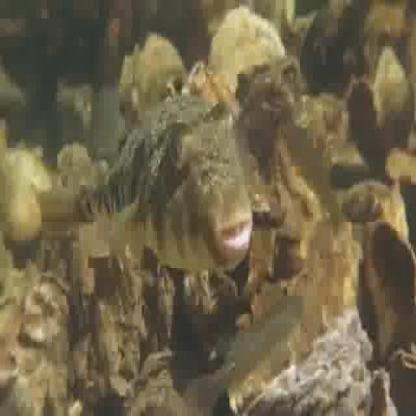Oyster- Indeterminate: (275, 122, 339, 230), (22, 272, 71, 345), (390, 348, 416, 416)
Oyster-Closed: (300, 180, 409, 332), (209, 7, 283, 84), (129, 38, 181, 121), (375, 50, 415, 146), (237, 73, 298, 129), (186, 61, 239, 117), (0, 176, 42, 242), (4, 149, 53, 192), (117, 54, 137, 129)
Oyster-Open: (360, 225, 416, 359)
